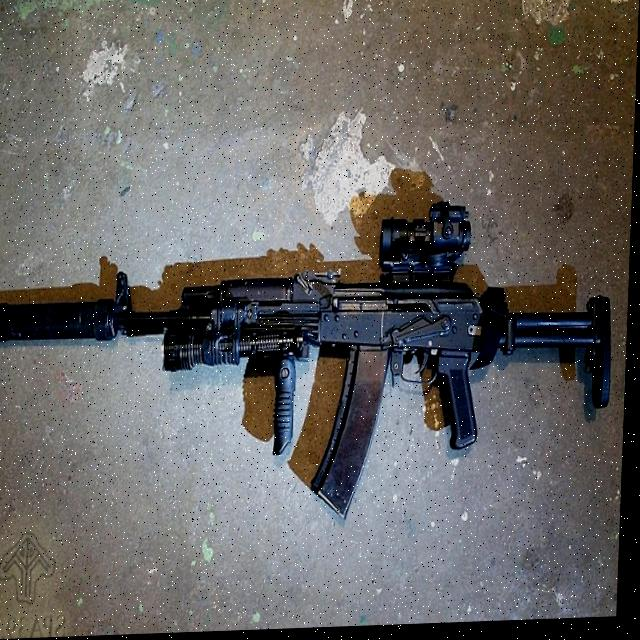firearm: (0, 198, 622, 538)
